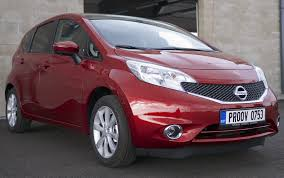Nissan: (19, 18, 279, 155)
